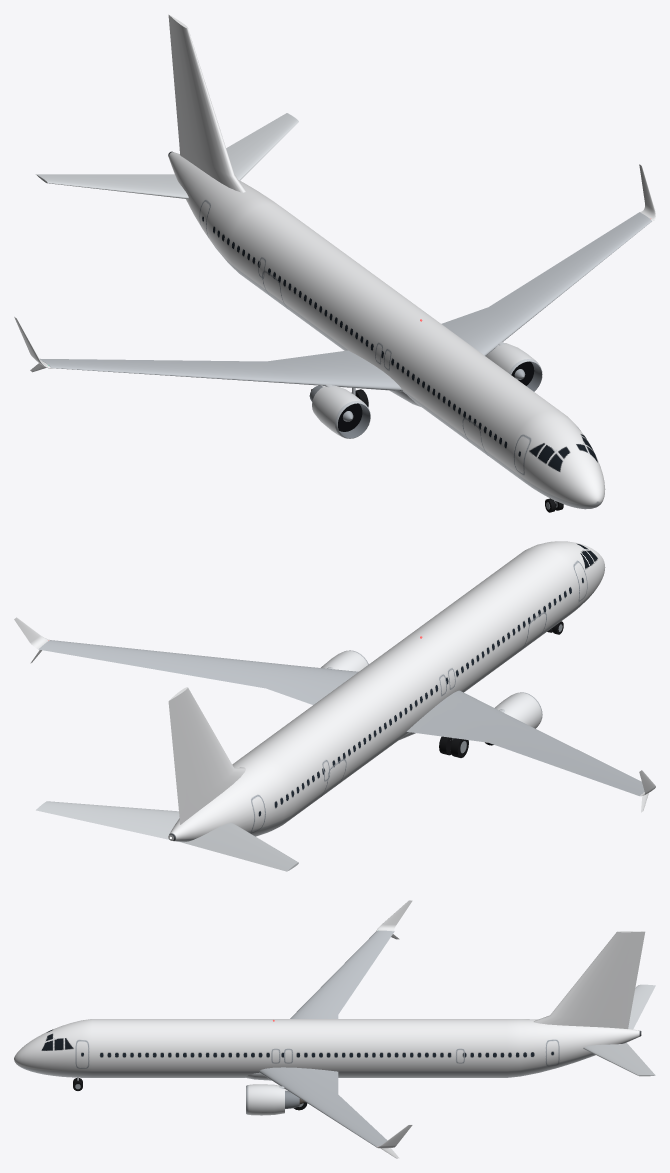
3 views of the same model, one above another, from view 1: azimuth 30°, elevation 25°; view 2: azimuth 150°, elevation 25°; view 3: azimuth 270°, elevation 25° (orthographic). The views are drawn at different scales.
Parts seen in each view (by area): view 1: body; view 2: body, gear; view 3: body.
Boxes of the visible parts, bbox=[...] form: body: bbox=[14, 14, 655, 509]; body: bbox=[14, 541, 655, 871]; gear: bbox=[439, 621, 563, 757]; body: bbox=[14, 900, 655, 1158].
Size of the model in its own units: 35.69 by 11.67 by 43.14.
19 materials, 1 textured.
